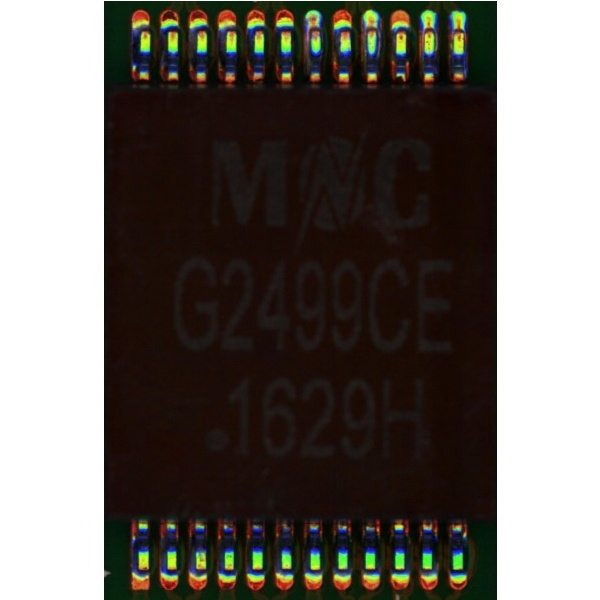Bad_podu: (454, 18, 462, 40), (366, 20, 375, 36), (309, 20, 319, 34), (425, 18, 432, 36)
